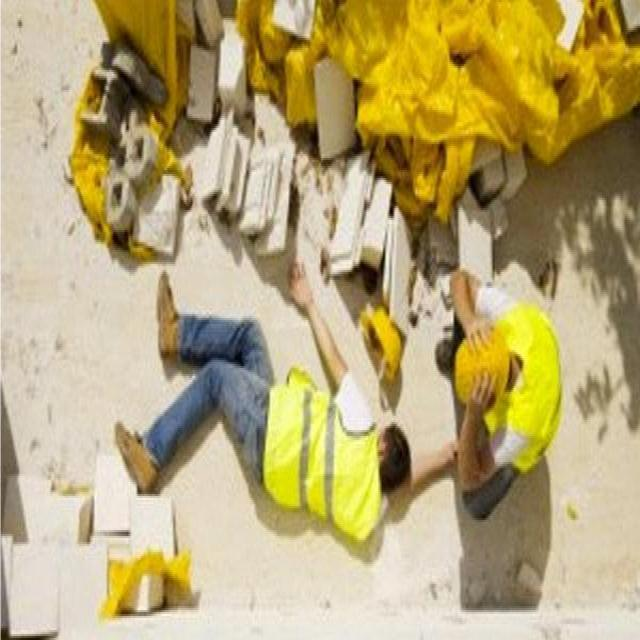reflective_jacket: (231, 338, 397, 566), (447, 290, 572, 490)
safety_helmet: (357, 301, 410, 379)
